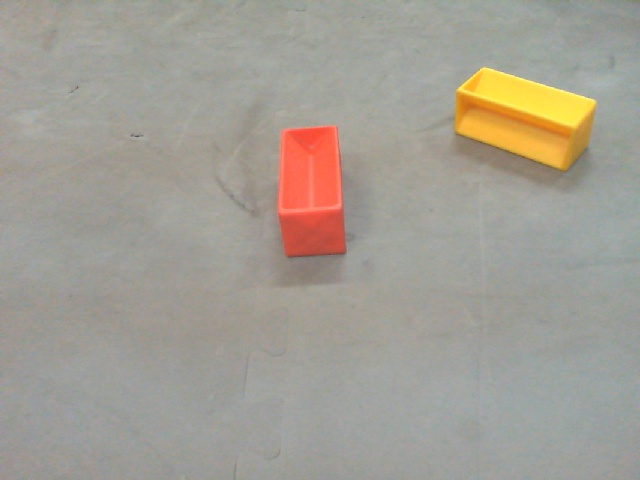RedSample: (278, 126, 350, 258)
YellowSample: (453, 66, 598, 177)
